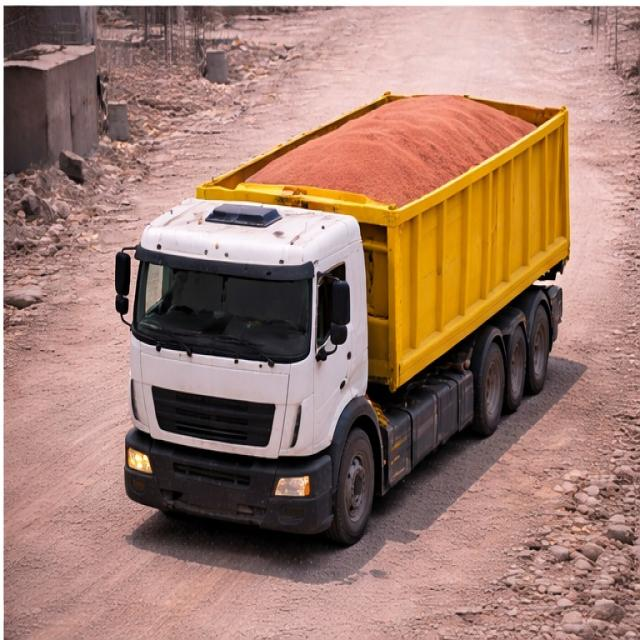trailer: (192, 100, 575, 208)
truck: (116, 66, 590, 539)
